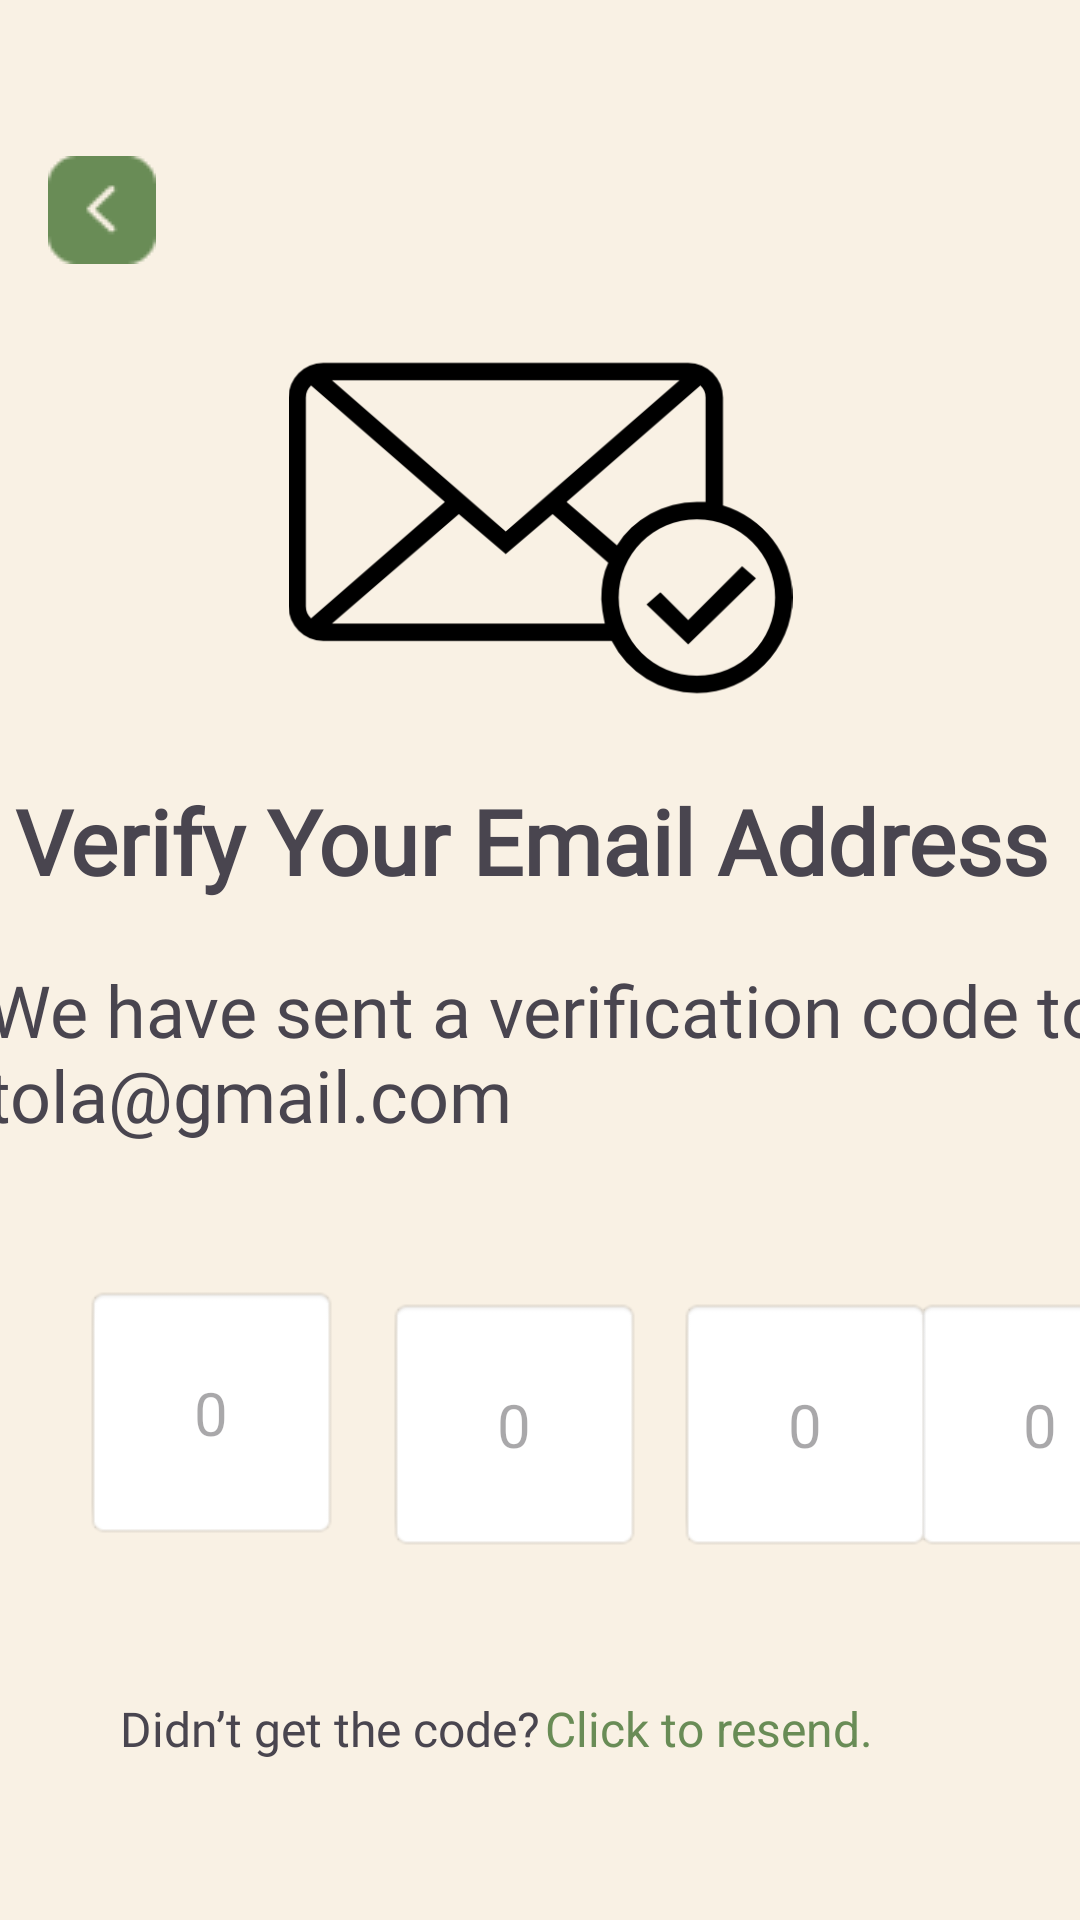

Point at icon controls on the screen. Image size 1080 × 1920, points as (x,y).
Back Button: (102,210)
